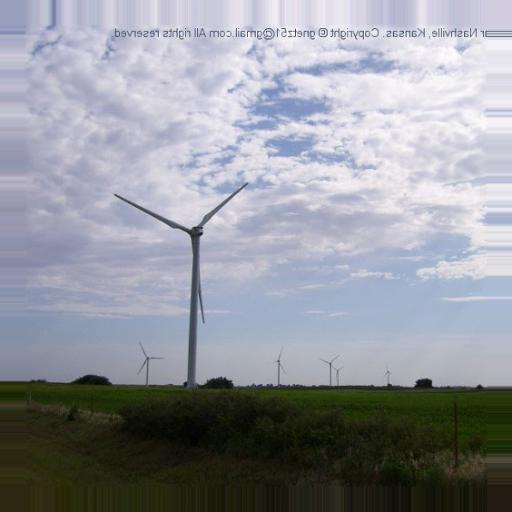wind turbine: (112, 183, 246, 389), (134, 343, 169, 388), (264, 346, 290, 386), (317, 350, 342, 389)
